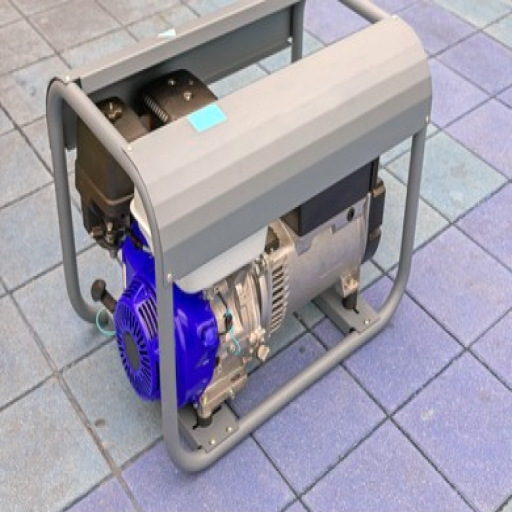portable_generator: (47, 1, 433, 474)
